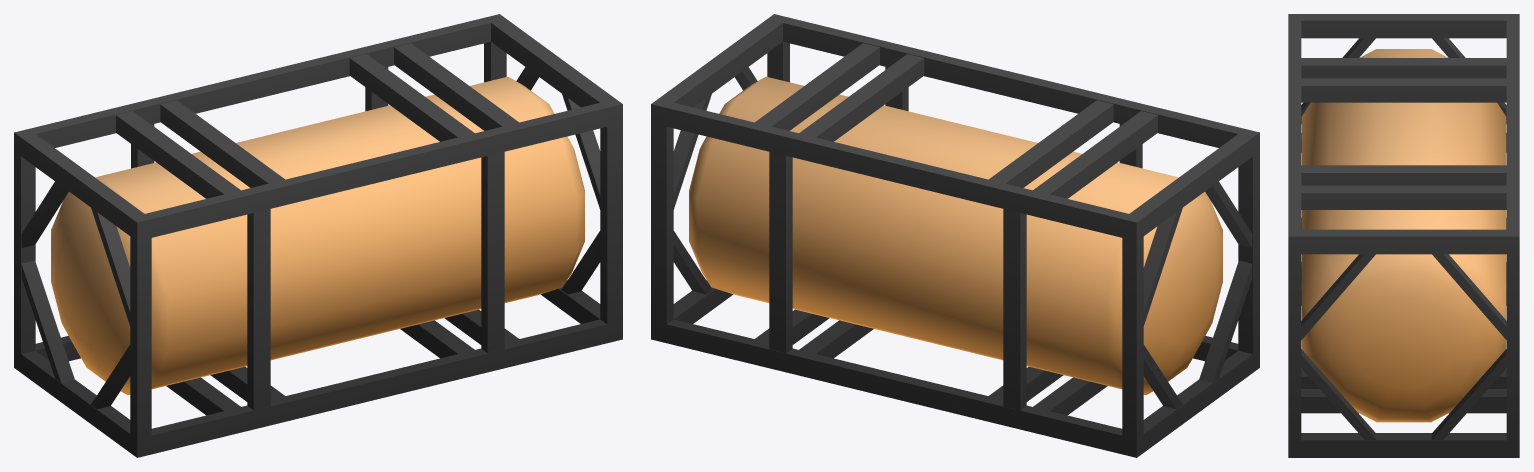
Rendered from Prop_Oil_Storage_Tank_01.fbx.
3 renders of one model, left to right at view 1: azimuth 30°, elevation 25°; view 2: azimuth 150°, elevation 25°; view 3: azimuth 270°, elevation 25°, orthographic. The views are drawn at different scales.
Visible parts, largest first — view 1: Prop_Oil_Storage_Tank_01; view 2: Prop_Oil_Storage_Tank_01; view 3: Prop_Oil_Storage_Tank_01.
Part boxes in pixels (x1=…): Prop_Oil_Storage_Tank_01: x1=14, y1=14, x2=622, y2=457; Prop_Oil_Storage_Tank_01: x1=651, y1=14, x2=1259, y2=457; Prop_Oil_Storage_Tank_01: x1=1288, y1=14, x2=1519, y2=457.
Size of the model in its own units: 277 by 128 by 121.
